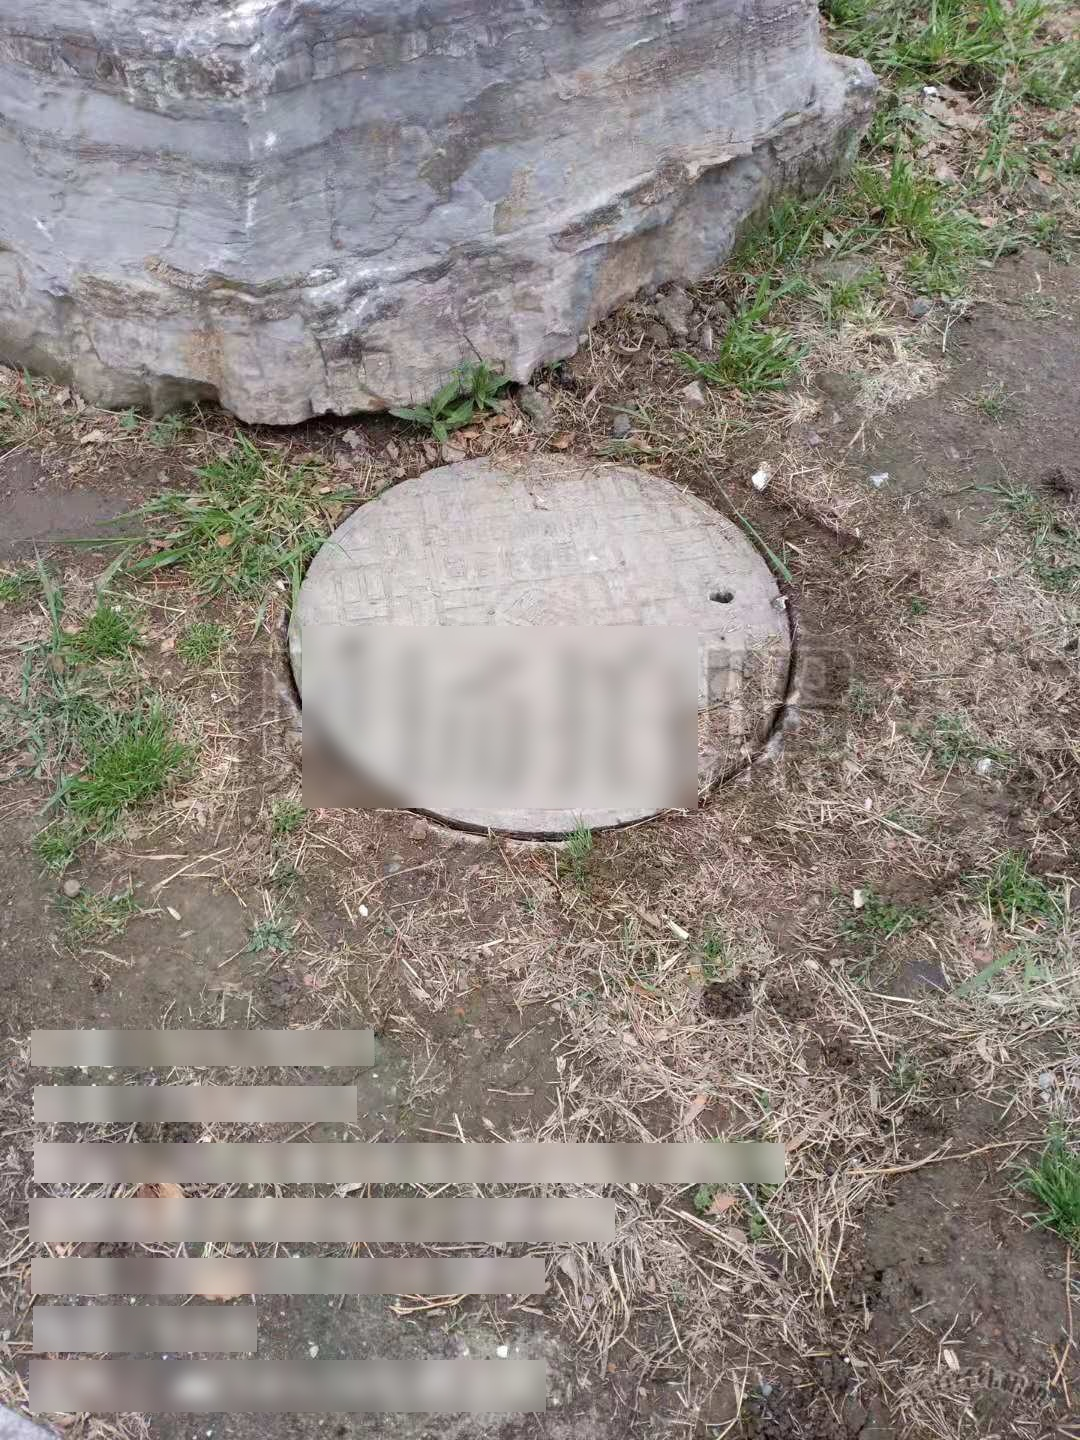well: (271, 455, 809, 840)
